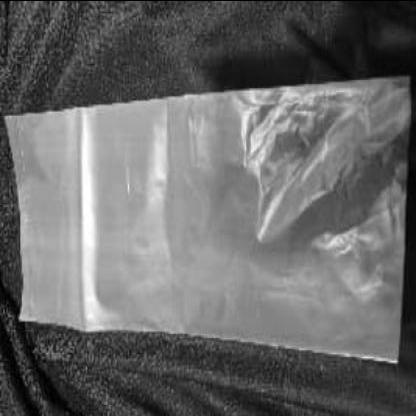objects: (3, 48, 406, 358)
